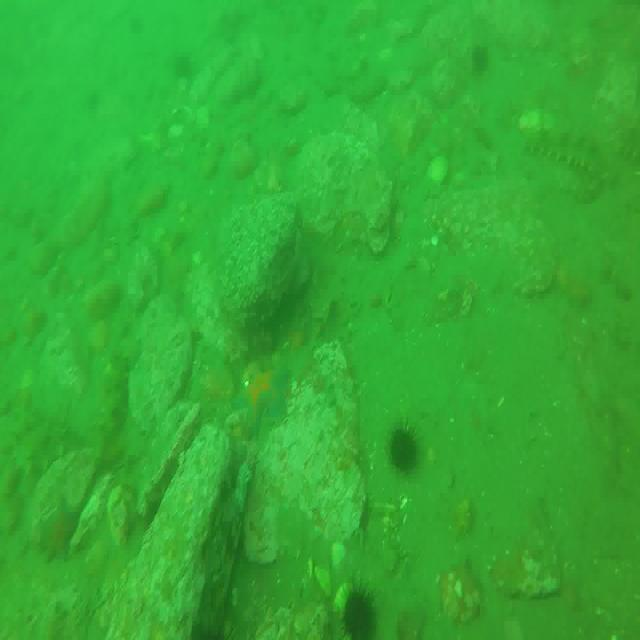echinus: (346, 583, 376, 640), (389, 427, 416, 474), (471, 45, 492, 79), (174, 55, 192, 77)
holothurian: (528, 118, 606, 179)
starfish: (236, 360, 292, 443)
